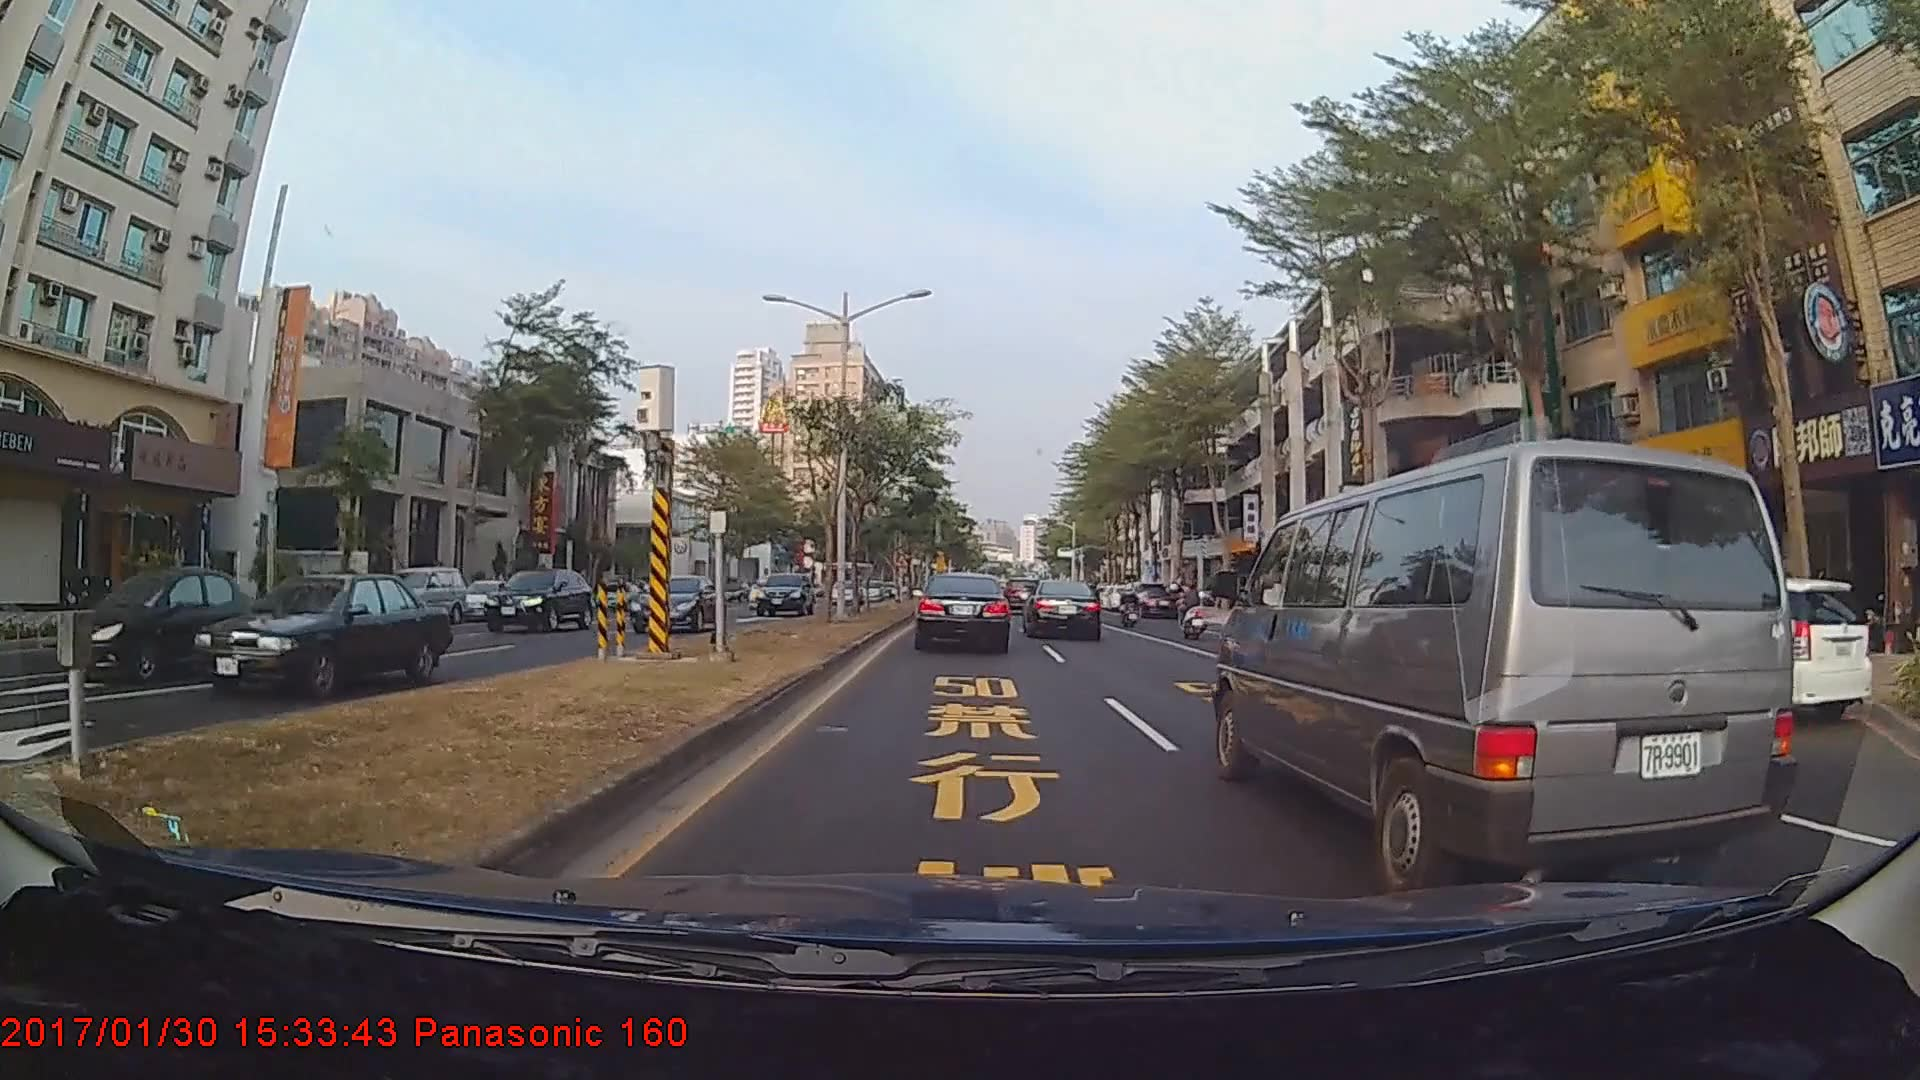rider: (1170, 580, 1216, 644)
vehicle: (1214, 426, 1809, 887), (189, 578, 458, 700), (56, 566, 254, 685), (914, 572, 1011, 652), (482, 567, 594, 633), (627, 574, 724, 632), (382, 565, 468, 624), (1024, 578, 1103, 641), (756, 569, 812, 615)
